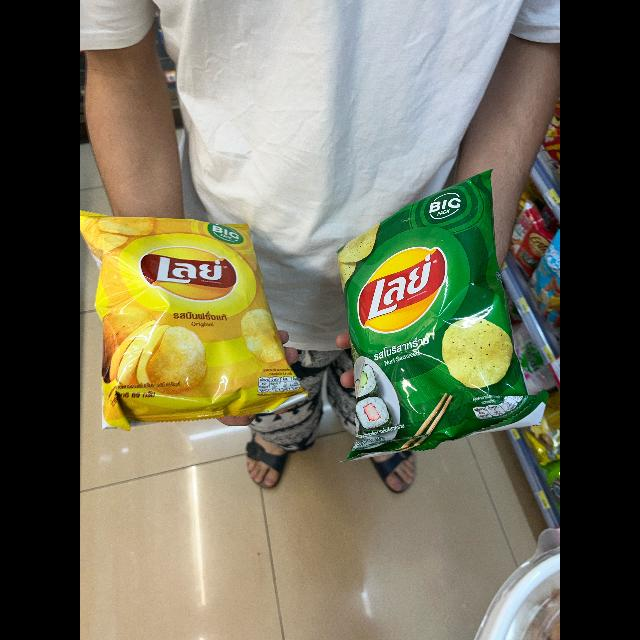snack_bag: (316, 164, 560, 472), (80, 195, 316, 442)
